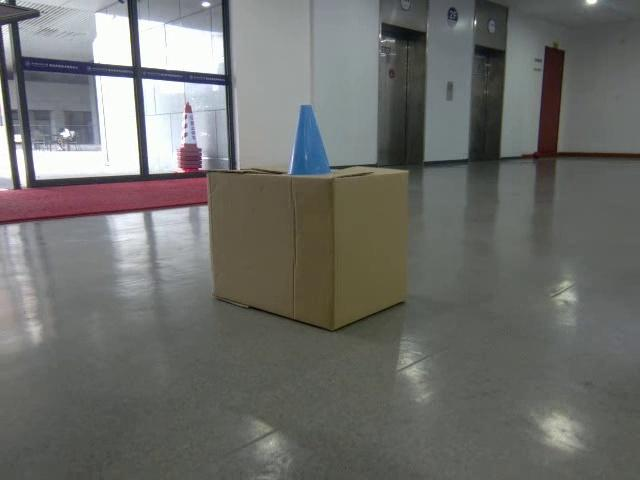blue_barrel: (285, 103, 331, 175)
